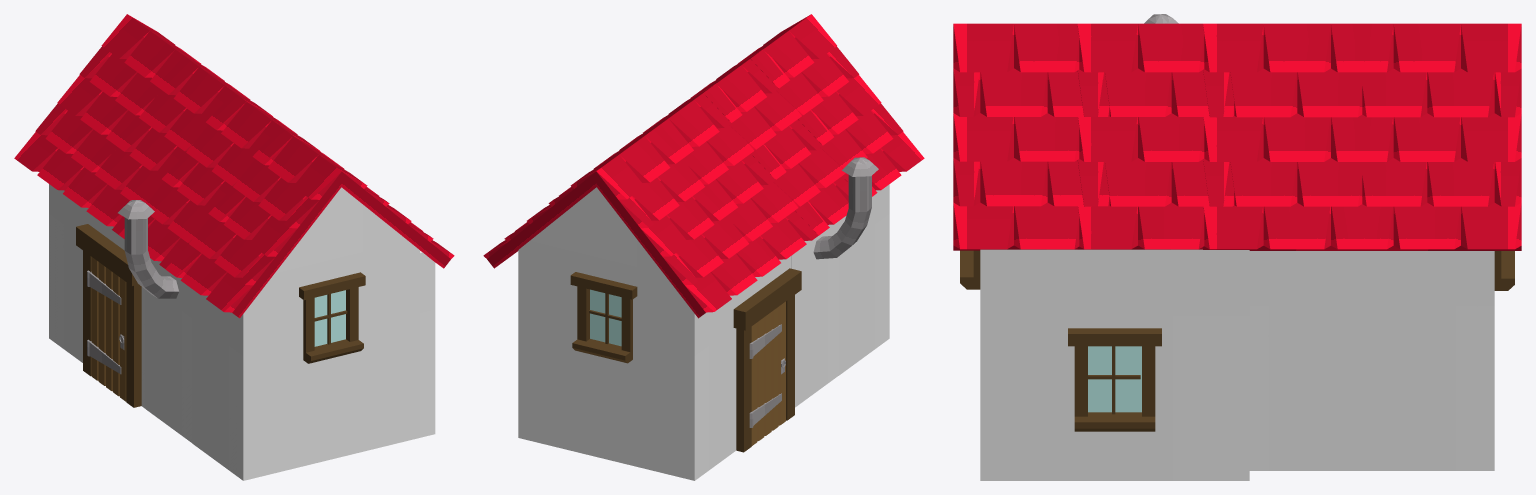
File: house1.obj
The picture shows the model from 3 angles, left to right: view 1: azimuth 30°, elevation 25°; view 2: azimuth 150°, elevation 25°; view 3: azimuth 270°, elevation 25°; orthographic projection. The views are drawn at different scales.
Parts seen in each view (by area): view 1: object5.020, object5.013_object5.003, object5.011_object5.001, object5.012_object5.002, object1.007_object1.003, object4.005_object4.002, object2.051, object1.005_object1.001, object1.187; view 2: object5.013_object5.003, object5.020, object5.011_object5.001, object5.012_object5.002, object1.007_object1.003, object4.005_object4.002, object2.008_object2.001, object1.187; view 3: object5.013_object5.003, object5.012_object5.002, object1.005_object1.001, object5.020, object5.011_object5.001, object3.007_object3.001, object2.008_object2.001, object2.051.
Boxes of the visible parts, x1,y1,x2,y2 form: object5.020: (165, 127, 454, 480); object5.013_object5.003: (14, 14, 213, 362); object5.011_object5.001: (118, 92, 320, 442); object5.012_object5.002: (73, 58, 272, 408); object1.007_object1.003: (76, 224, 141, 407); object4.005_object4.002: (91, 257, 126, 401); object2.051: (299, 272, 365, 363); object1.005_object1.001: (420, 251, 435, 437); object1.187: (118, 200, 178, 298); object5.013_object5.003: (483, 126, 772, 480); object5.020: (738, 14, 924, 375); object5.011_object5.001: (690, 49, 877, 407); object5.012_object5.002: (628, 83, 829, 299); object1.007_object1.003: (733, 268, 801, 452); object4.005_object4.002: (751, 301, 785, 445); object2.008_object2.001: (570, 272, 637, 363); object1.187: (813, 157, 878, 259); object5.013_object5.003: (1362, 23, 1521, 470); object5.012_object5.002: (1203, 23, 1364, 470); object1.005_object1.001: (980, 249, 1249, 480); object5.020: (953, 23, 1109, 250); object5.011_object5.001: (1077, 23, 1234, 249); object3.007_object3.001: (1068, 328, 1161, 431); object2.008_object2.001: (1494, 251, 1514, 290); object2.051: (960, 250, 980, 289).
Size of the model in its own units: 82.05 by 89.47 by 118.
Materials: 2 (2 with a texture image).
